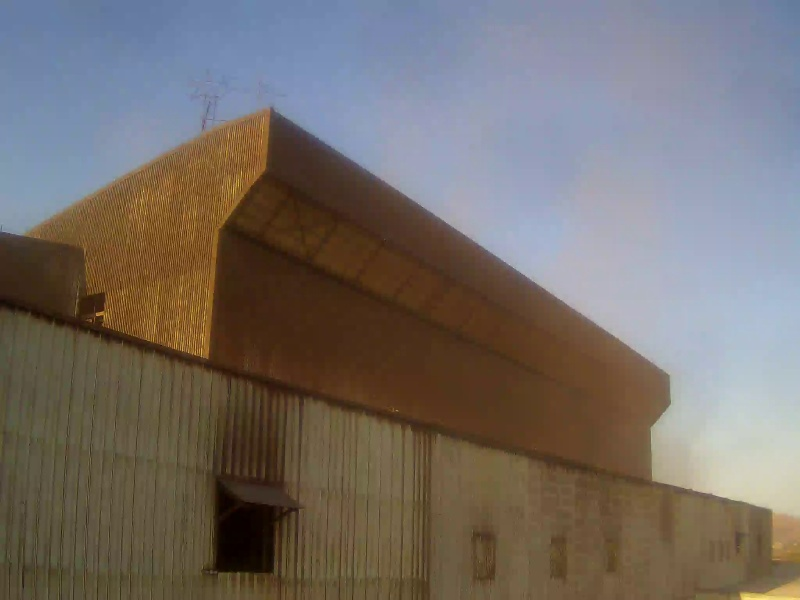ruim: (291, 8, 732, 490)
